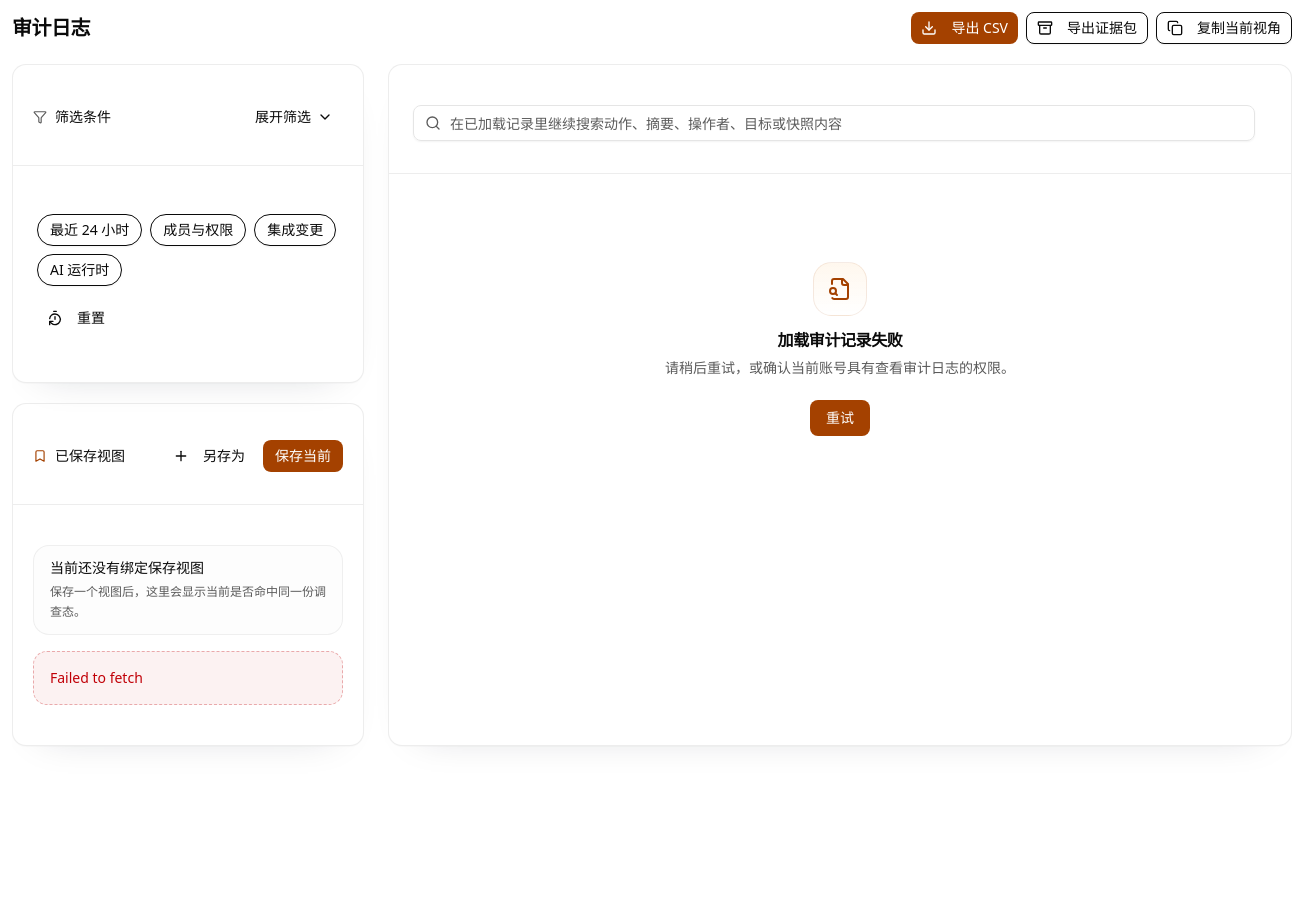
AuditLogPage › retries the audit log request from the error state
The image size is (1304, 912).
Expected: the text "加载审计记录失败" is shown, [778,329,902,351]
Click the button "重试".
click(840, 418)  # box [810,400,870,436]
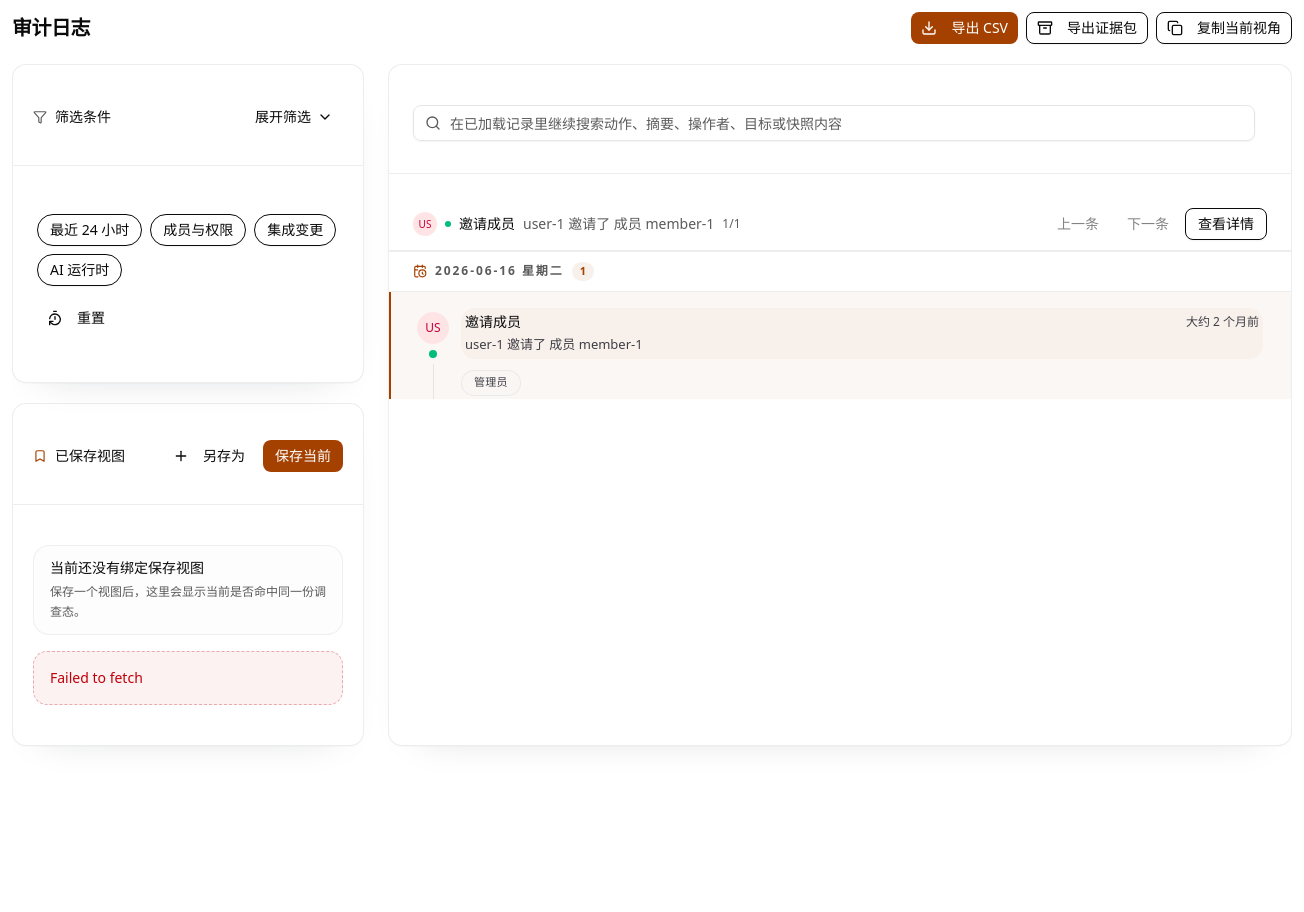
Expected: the 1st text "邀请成员" is shown, [459,214,515,234]
